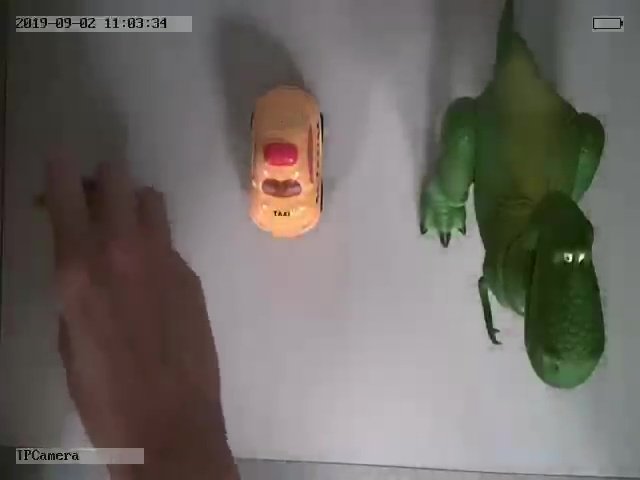car: (246, 81, 329, 239)
rex: (417, 9, 607, 390)
